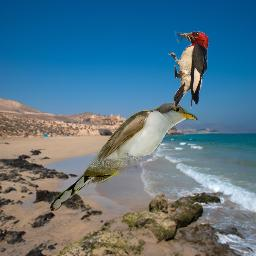Cuckoo: (47, 101, 201, 212)
Woodpecker: (168, 31, 209, 109)
